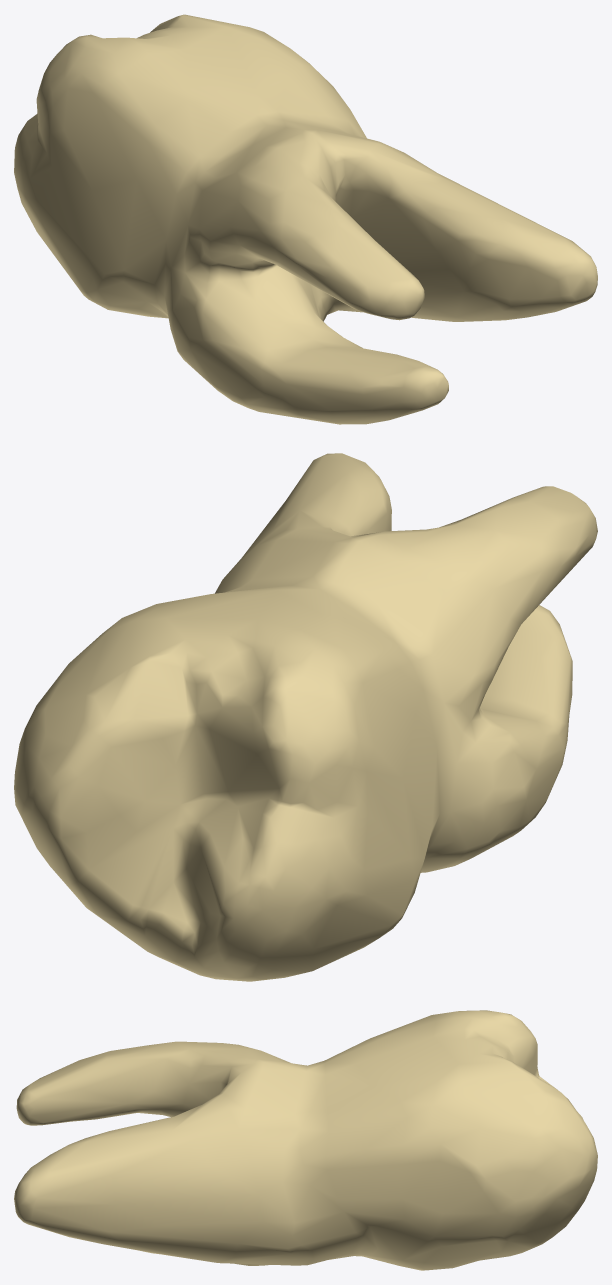
The picture shows the model from 3 angles, top to bottom: view 1: azimuth 30°, elevation 25°; view 2: azimuth 150°, elevation 25°; view 3: azimuth 270°, elevation 25°; orthographic projection. The views are drawn at different scales.
Parts seen in each view (by area): view 1: 右侧上颌第二磨牙; view 2: 右侧上颌第二磨牙; view 3: 右侧上颌第二磨牙.
Boxes of the visible parts, left/top/right/bottom form: 右侧上颌第二磨牙: left=14, top=14, right=597, bottom=424; 右侧上颌第二磨牙: left=14, top=453, right=597, bottom=981; 右侧上颌第二磨牙: left=14, top=1010, right=597, bottom=1270.
Bounding box in the file's own units: 0.0171 × 0.0142 × 0.0326.
